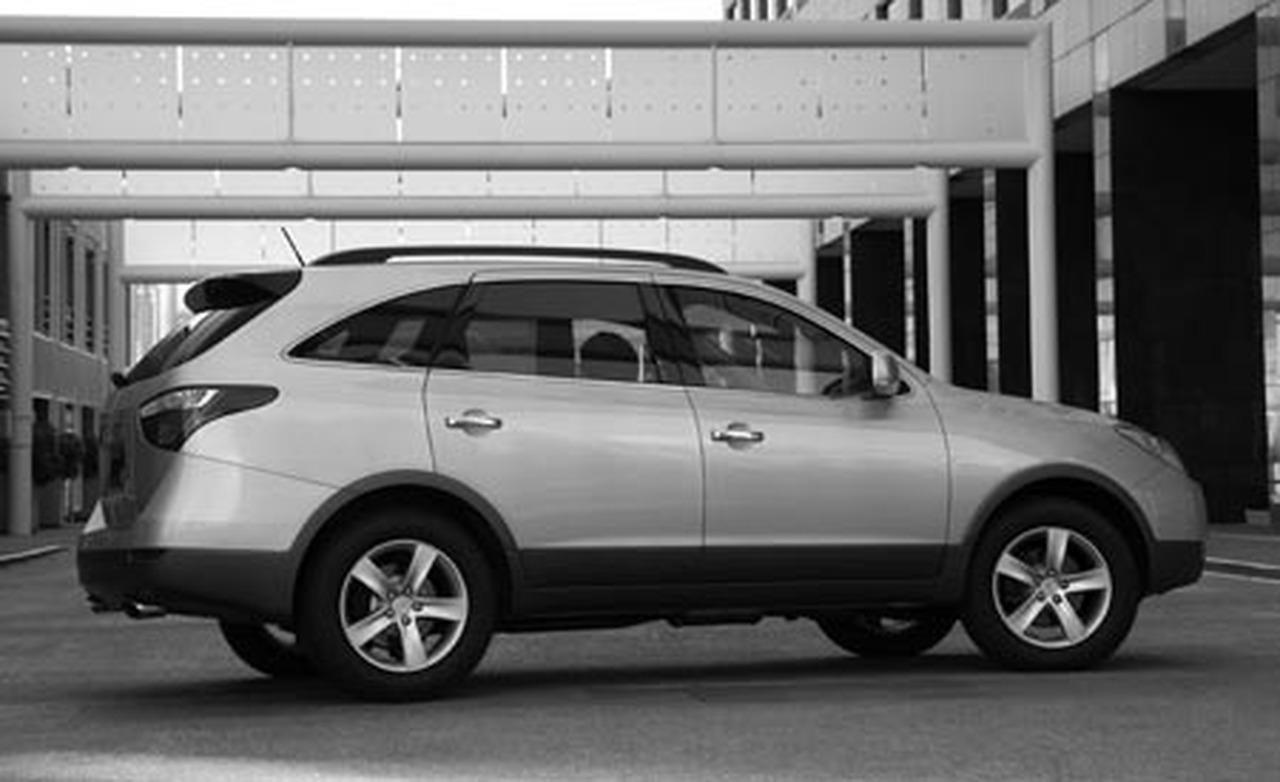car: (75, 245, 1207, 695)
